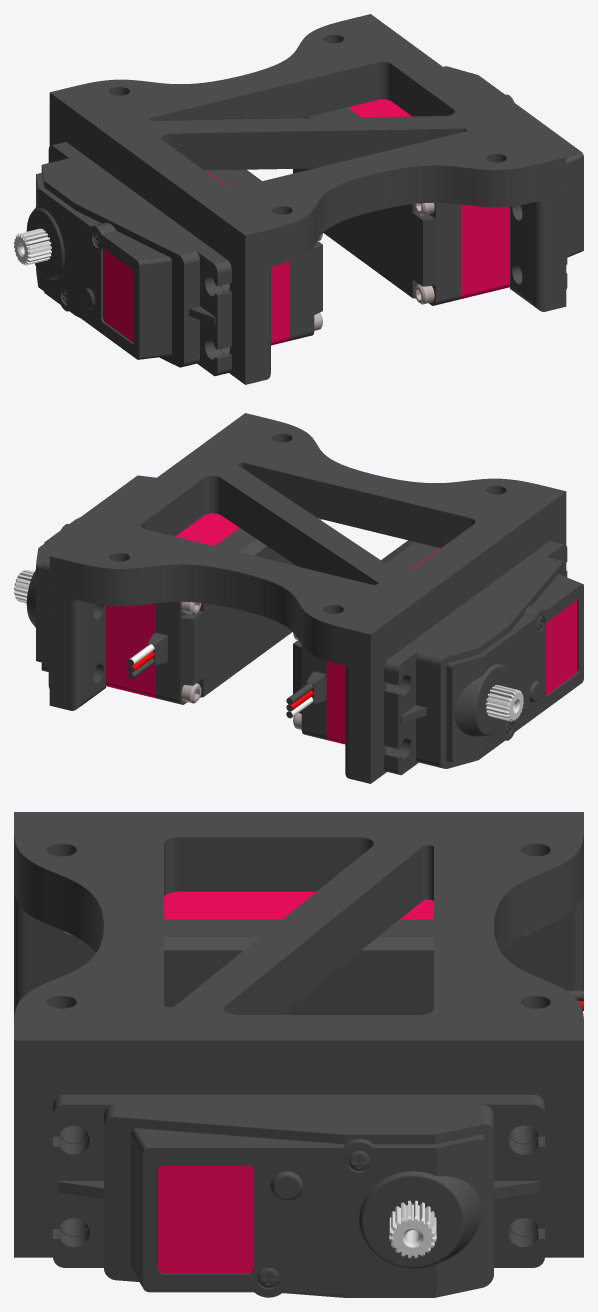
Rendered from Pelvis.obj.
3 views of the same model, one above another, from view 1: azimuth 30°, elevation 25°; view 2: azimuth 150°, elevation 25°; view 3: azimuth 270°, elevation 25° (orthographic). The views are drawn at different scales.
Visible parts, largest first — view 1: mesh340, mesh385, mesh349, mesh54, mesh343, mesh353, mesh3, mesh94, mesh115, mesh9, mesh97, mesh344 (+20 smaller); view 2: mesh340, mesh385, mesh347, mesh54, mesh342, mesh115, mesh3, mesh98, mesh356, mesh341, mesh361, mesh362 (+23 smaller); view 3: mesh340, mesh395, mesh3, mesh85, mesh12, mesh115, mesh356, mesh345, mesh38, mesh66, mesh76, mesh234 (+19 smaller).
Part boxes in pixels (<box>): mesh340: <box>50,14,565,235</box>; mesh385: <box>49,93,245,384</box>; mesh349: <box>171,128,462,170</box>; mesh54: <box>42,142,227,263</box>; mesh343: <box>375,164,537,210</box>; mesh353: <box>151,62,377,120</box>; mesh3: <box>38,189,139,359</box>; mesh94: <box>271,204,509,340</box>; mesh115: <box>293,117,422,297</box>; mesh9: <box>139,157,583,357</box>; mesh97: <box>289,203,460,336</box>; mesh344: <box>274,174,374,265</box>; mesh340: <box>50,413,565,634</box>; mesh385: <box>370,492,566,783</box>; mesh347: <box>244,463,470,548</box>; mesh54: <box>388,541,562,662</box>; mesh342: <box>78,563,240,609</box>; mesh115: <box>193,546,297,696</box>; mesh3: <box>483,584,583,754</box>; mesh98: <box>106,603,345,739</box>; mesh356: <box>221,478,377,584</box>; mesh341: <box>241,573,342,664</box>; mesh361: <box>49,556,78,710</box>; mesh362: <box>342,627,370,783</box>; mesh340: <box>14,812,583,1040</box>; mesh395: <box>14,1040,583,1257</box>; mesh3: <box>143,1142,436,1297</box>; mesh85: <box>65,1094,532,1134</box>; mesh12: <box>158,1165,253,1273</box>; mesh115: <box>164,950,433,1014</box>; mesh356: <box>225,847,422,1014</box>; mesh345: <box>179,837,358,891</box>; mesh38: <box>104,1117,344,1297</box>; mesh66: <box>53,1104,115,1267</box>; mesh76: <box>482,1104,544,1267</box>; mesh234: <box>363,1177,462,1266</box>.
Bounding box in the file's own units: 0.1388 × 0.04 × 0.095.
